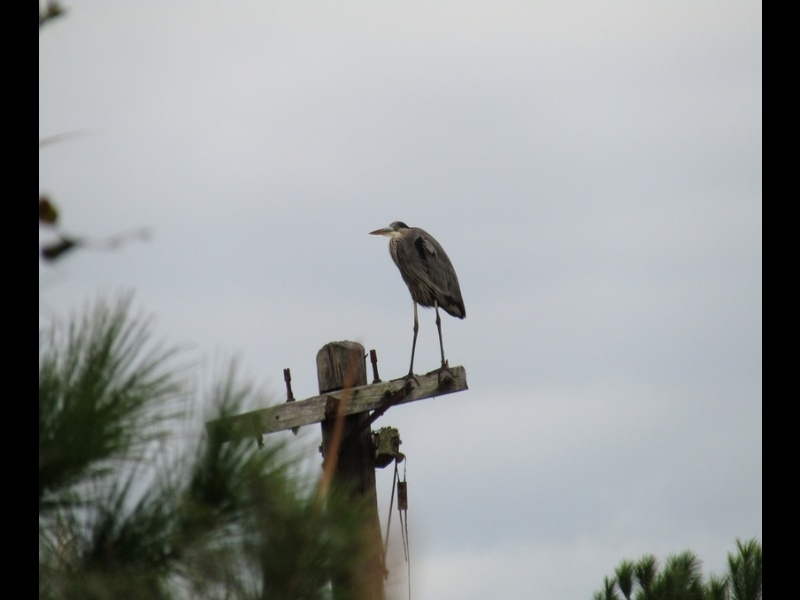heron: (368, 220, 469, 382)
